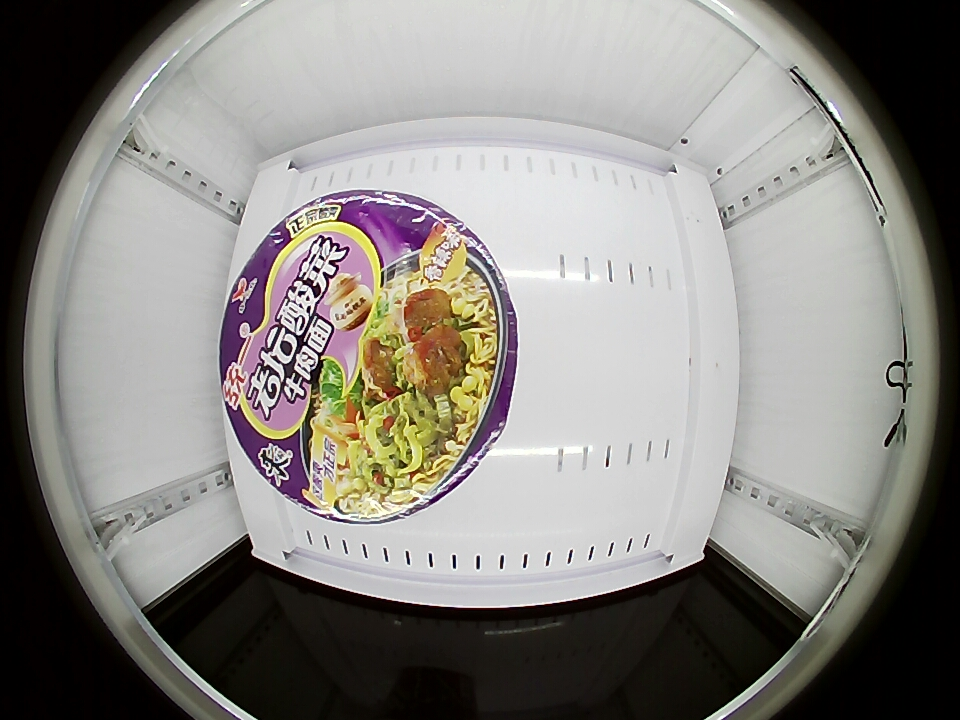laotansuancai: (219, 189, 519, 525)
